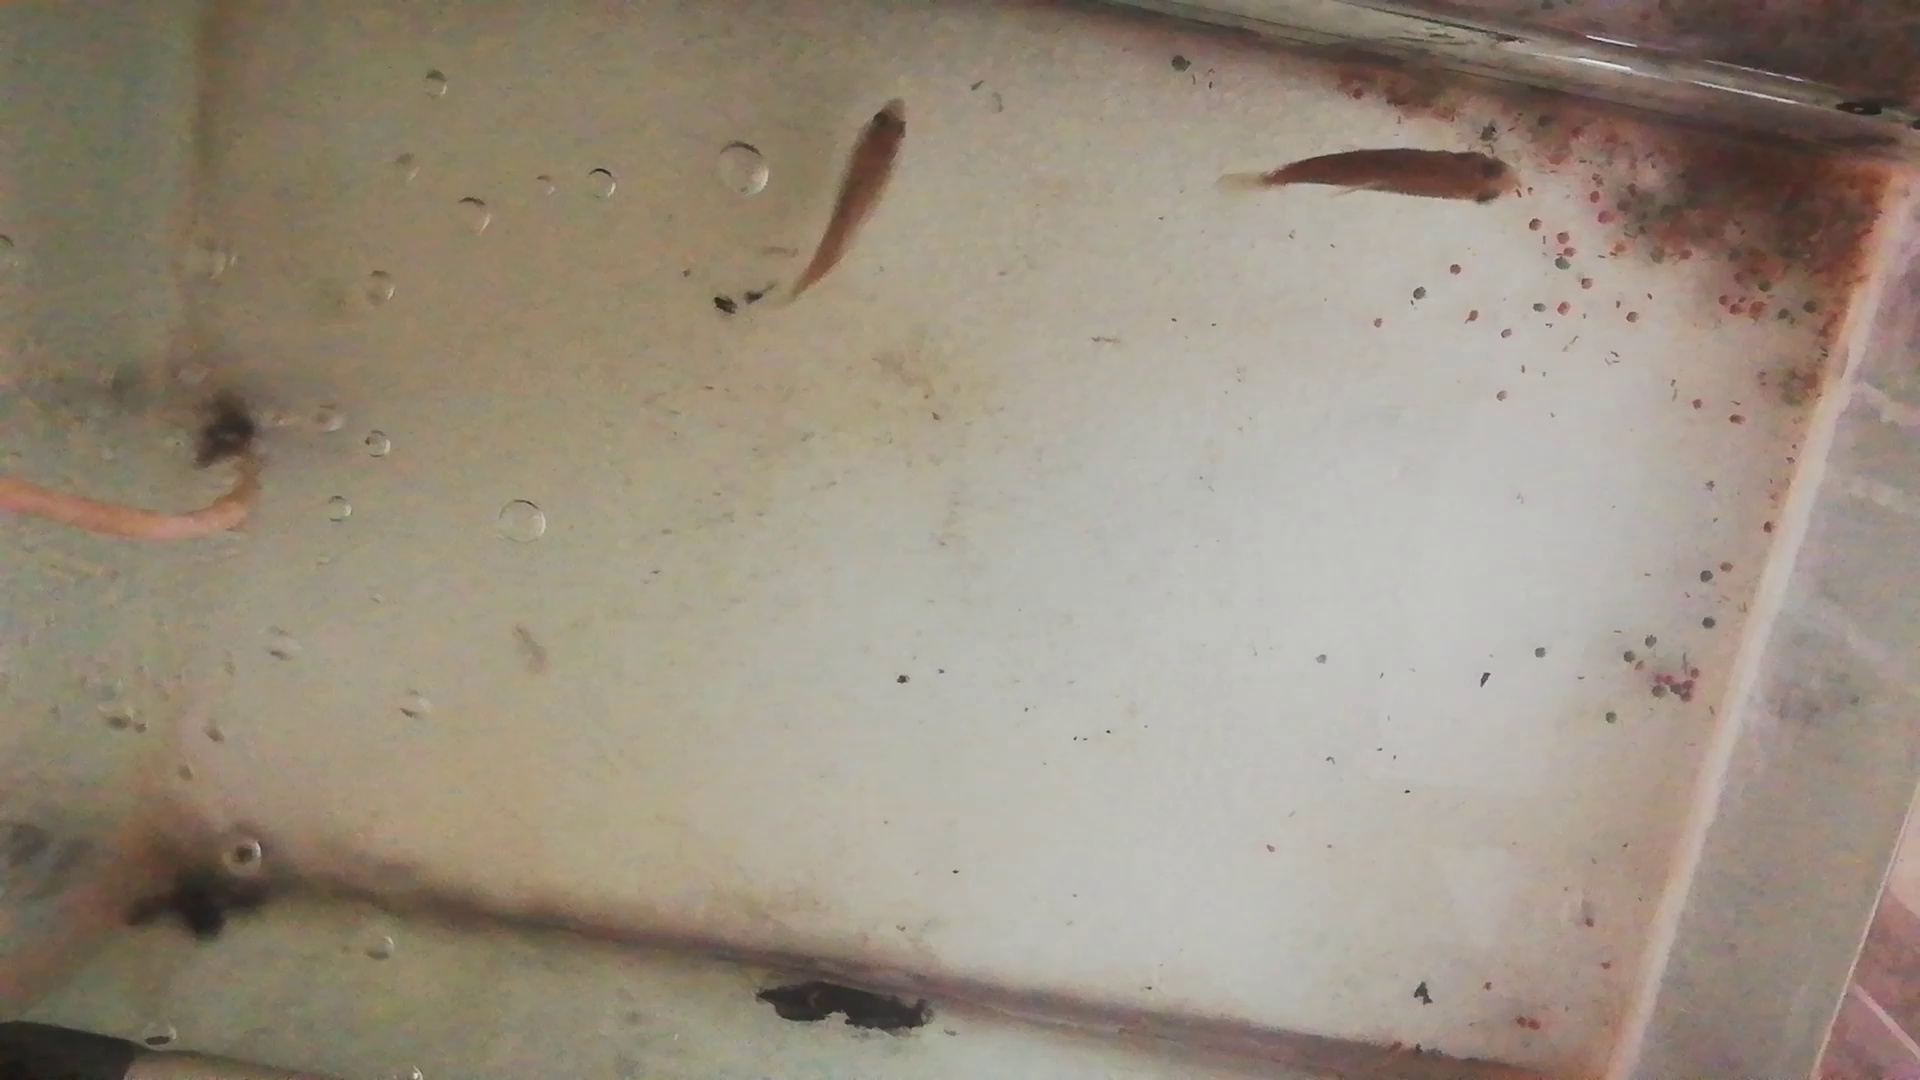fish: (796, 100, 911, 293), (1257, 145, 1522, 208)
